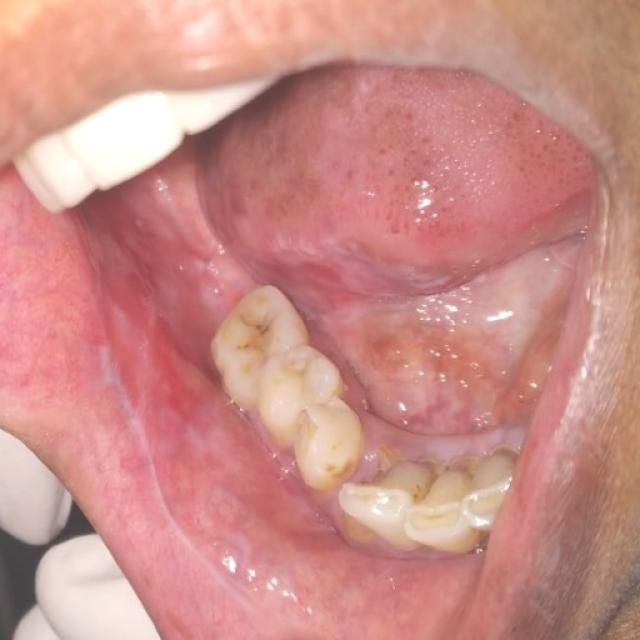leukoplakia-like-detection: (225, 194, 597, 462), (44, 184, 256, 536)
processing_area: (0, 68, 606, 639)
